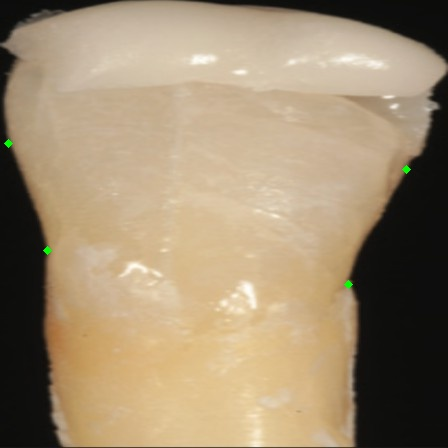coin_1: (348, 284, 368, 304)
coin_2: (406, 169, 426, 189)
coin_3: (47, 250, 67, 270)
coin_4: (8, 143, 28, 163)
